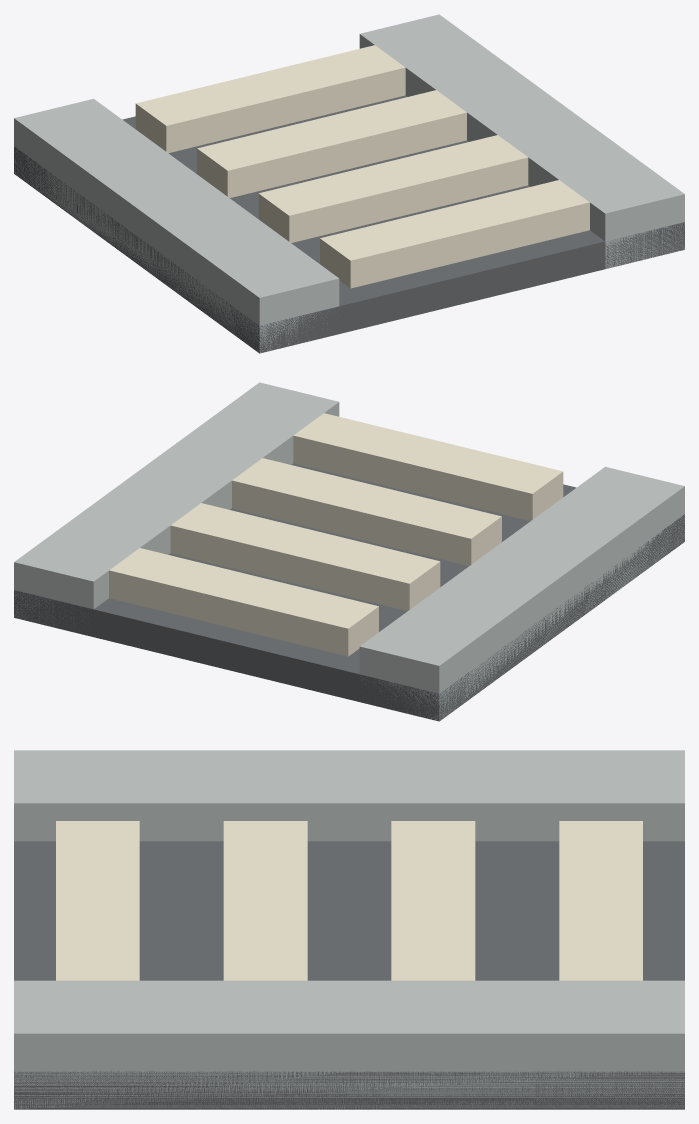
The model's file is pocket-borough-crosswalk-module__287.glb.
3 views of the same model, one above another, from view 1: azimuth 30°, elevation 25°; view 2: azimuth 150°, elevation 25°; view 3: azimuth 270°, elevation 25° (orthographic). The views are drawn at different scales.
Parts seen in each view (by area): view 1: pocket-borough-crosswalk; view 2: pocket-borough-crosswalk; view 3: pocket-borough-crosswalk.
Boxes of the visible parts, x1,y1,x2,y2 form: pocket-borough-crosswalk: (14,14,684,353); pocket-borough-crosswalk: (14,382,684,721); pocket-borough-crosswalk: (14,750,684,1109).
Size of the model in its own units: 2 by 0.25 by 2.
